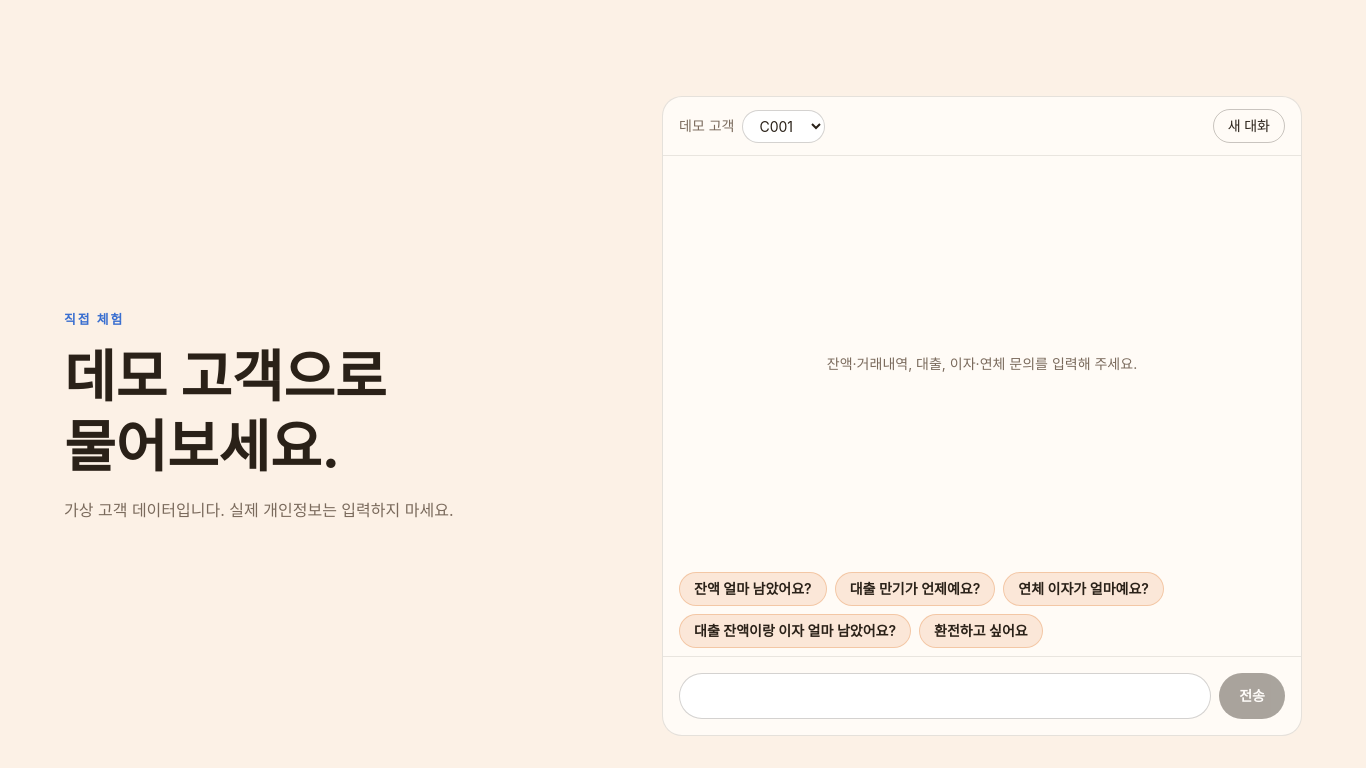
Test case: Page › 새 대화를 누르면 고객은 그대로 대화가 비고 칩이 다시 보이며, 다음 요청은 새 session_id로 나간다
Step 1. Select "C002" in the dropdown labelled "데모 고객" → (784,126), box [742,110,826,142]
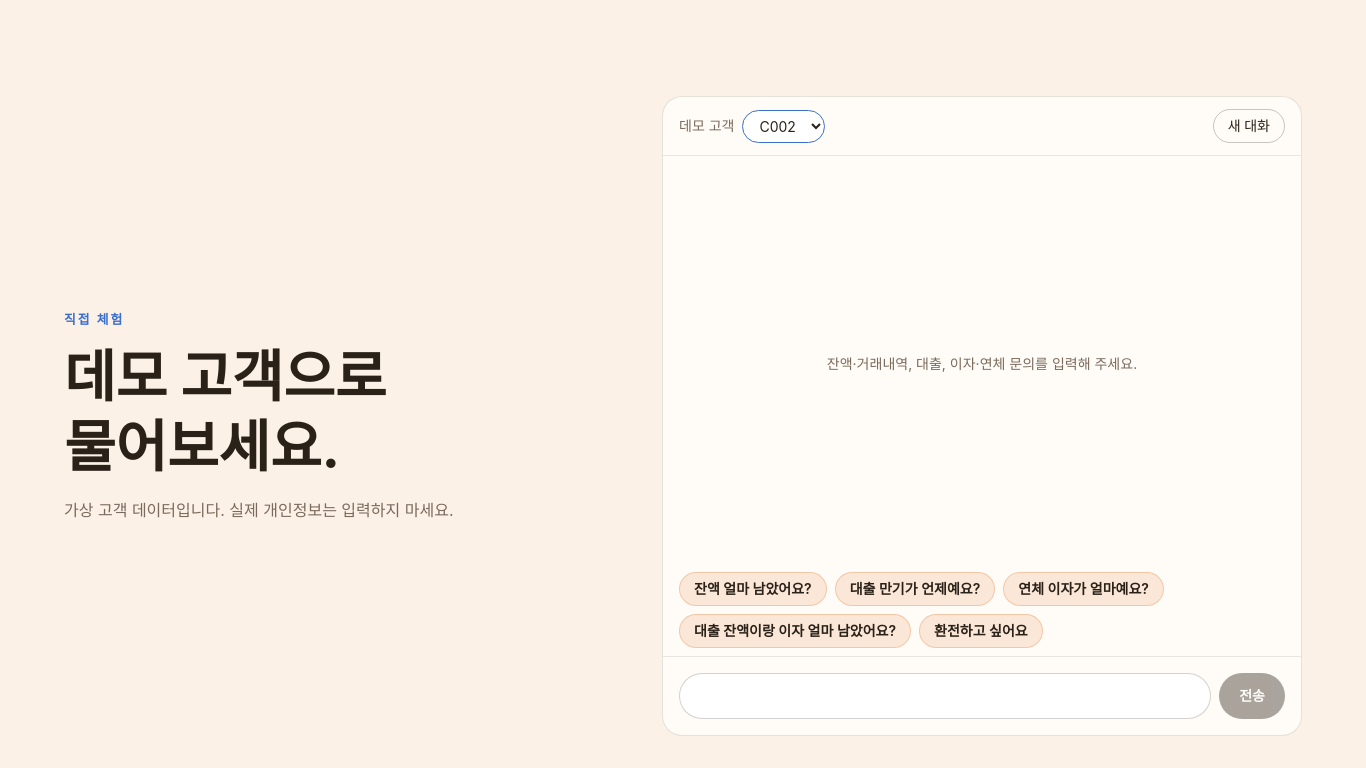
Step 2. Type "잔액 알려줘" into the field named "메시지" → (945,696), box [679,673,1211,719]
Then press Enter
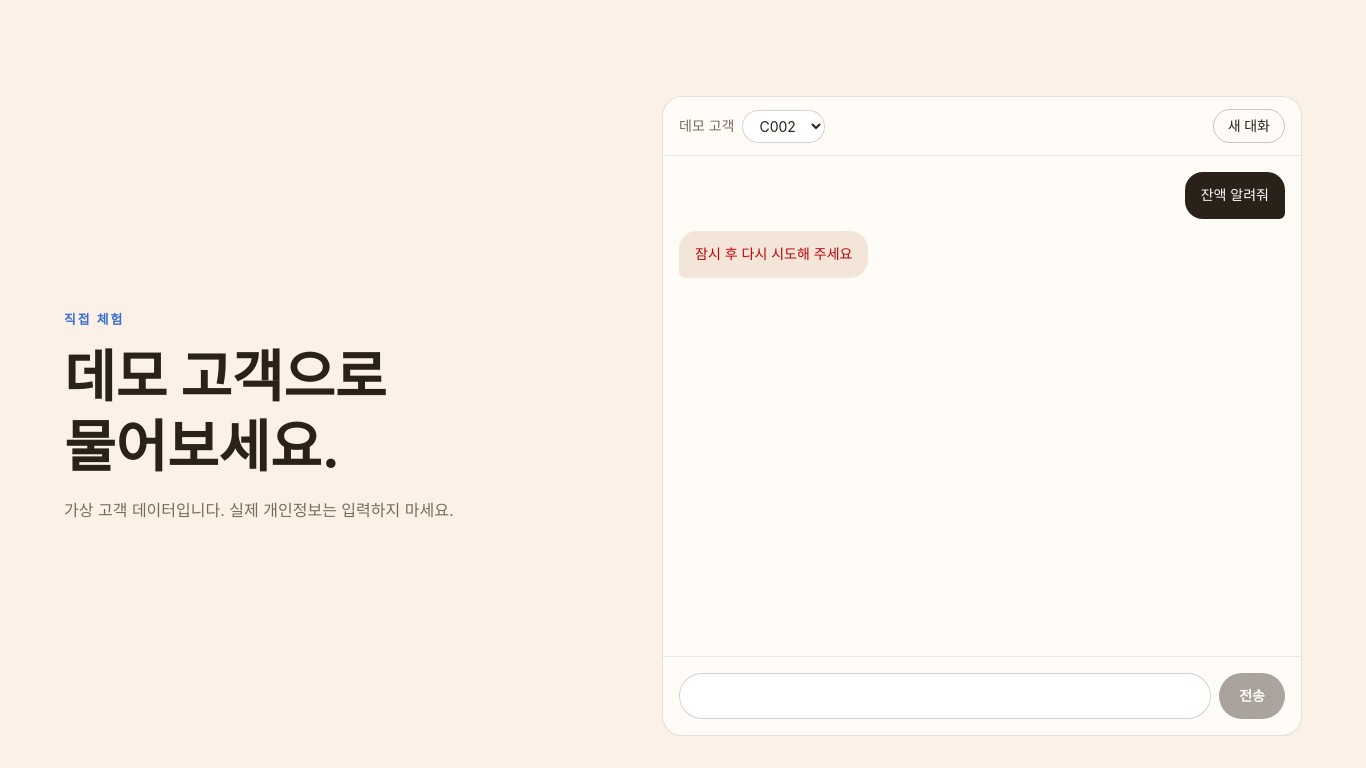
Now the text "잠시 후 다시 시도해 주세요" is shown, box [679,231,868,278]
Step 3. Click the button "새 대화" → (1249,126), box [1213,109,1285,143]
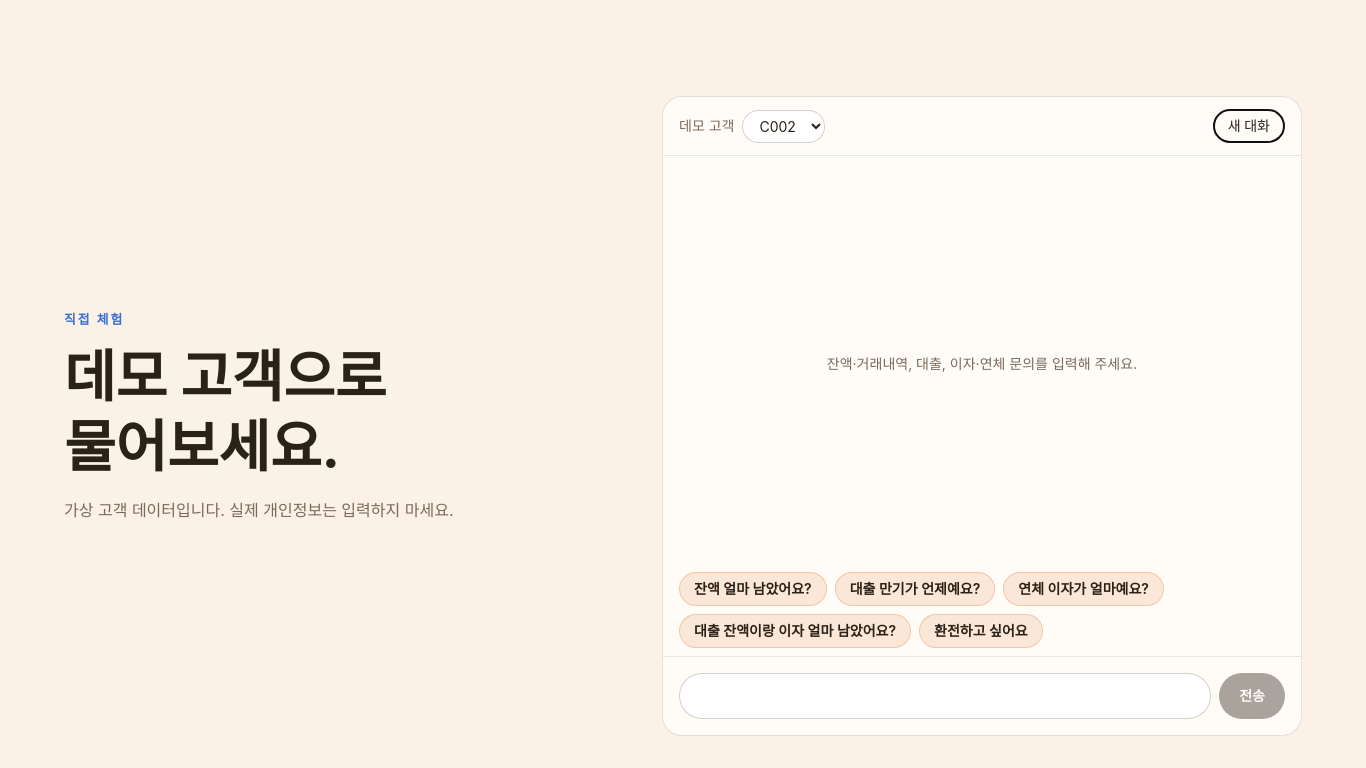
Now the element showing "잔액·거래내역, 대출, 이자·연체 문의를 입력해 주세요." is shown, box [827,355,1137,372]
Now the button "잔액 얼마 남았어요?" is shown, box [679,572,827,606]
Step 4. Type "잔액 알려줘" into the field named "메시지" → (945,696), box [679,673,1211,719]
Then press Enter
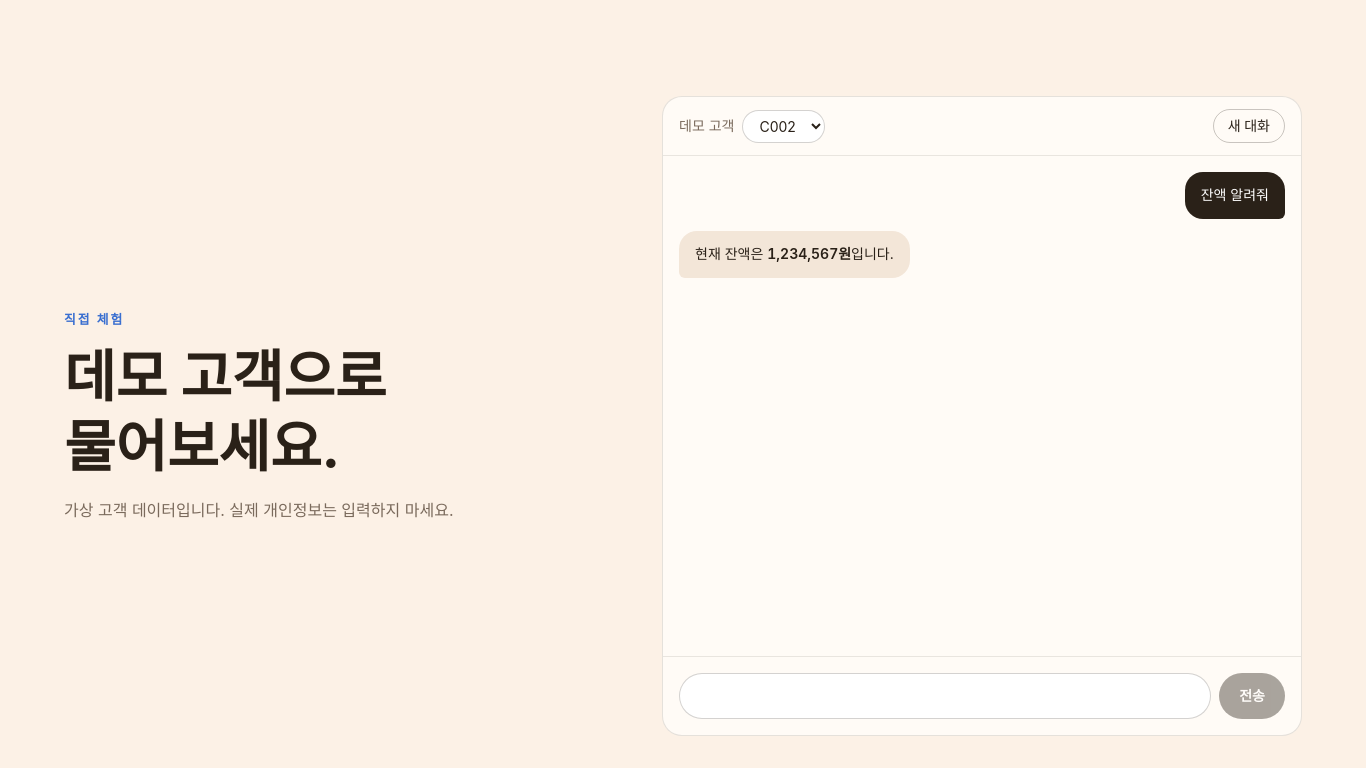
Now the text "1,234,567원" is shown, box [767,245,851,262]
